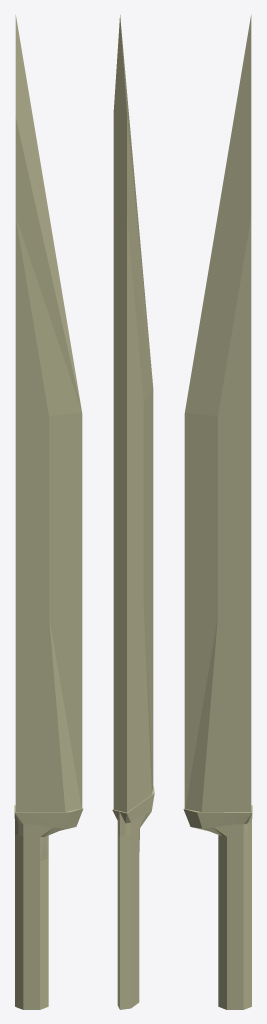
The model's file is ken.obj.
3 renders of one model, left to right at view 1: azimuth 90°, elevation 25°; view 2: azimuth 150°, elevation 25°; view 3: azimuth 270°, elevation 25°, orthographic.
Parts seen in each view (by area): view 1: 立方体.001; view 2: 立方体.001; view 3: 立方体.001.
Part boxes in pixels (x1,y1,x2,y2): 立方体.001: (14, 15, 83, 1009); 立方体.001: (112, 15, 154, 1009); 立方体.001: (183, 15, 252, 1009).
Size of the model in its own units: 0.195 by 12.6 by 0.7946.
1 material, 1 textured.
